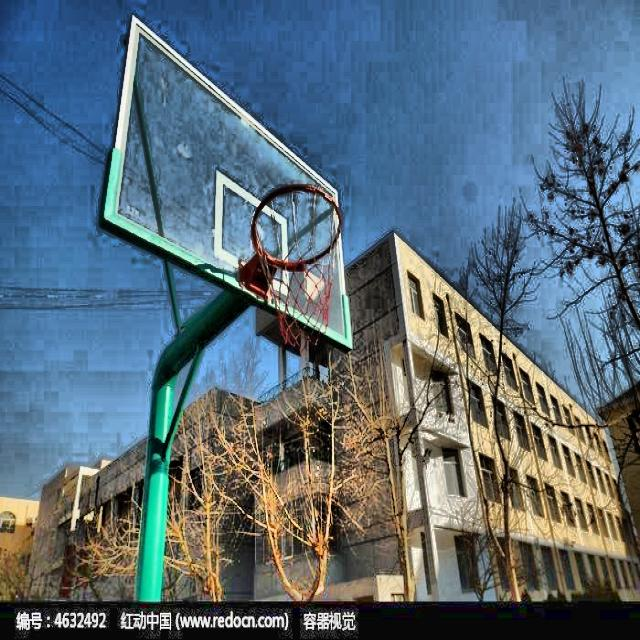rim: (251, 182, 344, 347)
